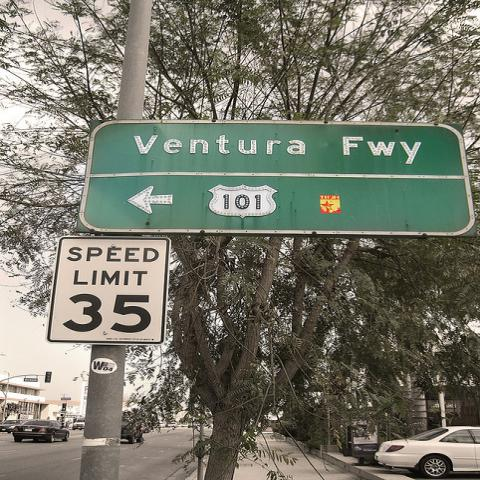car: (375, 426, 479, 478), (13, 419, 71, 444), (120, 416, 145, 444), (0, 420, 26, 434), (72, 418, 85, 430), (141, 426, 150, 433)
